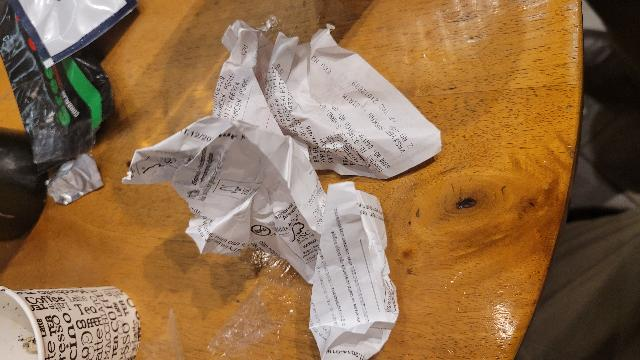Kagit: (121, 15, 442, 360), (0, 284, 142, 360)
Plastik: (0, 0, 112, 161)
